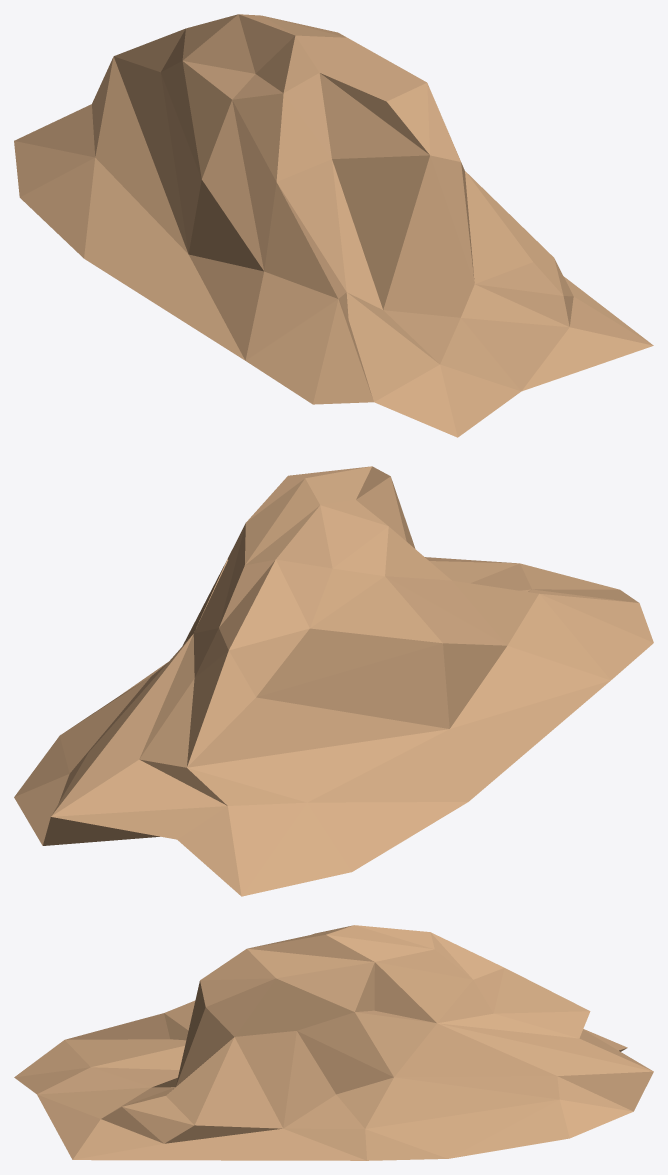
File: Straw.glb
3 renders of one model, top to bottom at view 1: azimuth 30°, elevation 25°; view 2: azimuth 150°, elevation 25°; view 3: azimuth 270°, elevation 25°, orthographic. The views are drawn at different scales.
Parts seen in each view (by area): view 1: Straw; view 2: Straw; view 3: Straw.
Boxes of the visible parts, bbox=[...] form: Straw: bbox=[14, 14, 653, 437]; Straw: bbox=[14, 466, 653, 896]; Straw: bbox=[14, 925, 653, 1160].
Size of what is drawn, in the model's own units: 1.34 by 0.8224 by 2.69.
Materials: 1 (1 with a texture image).
